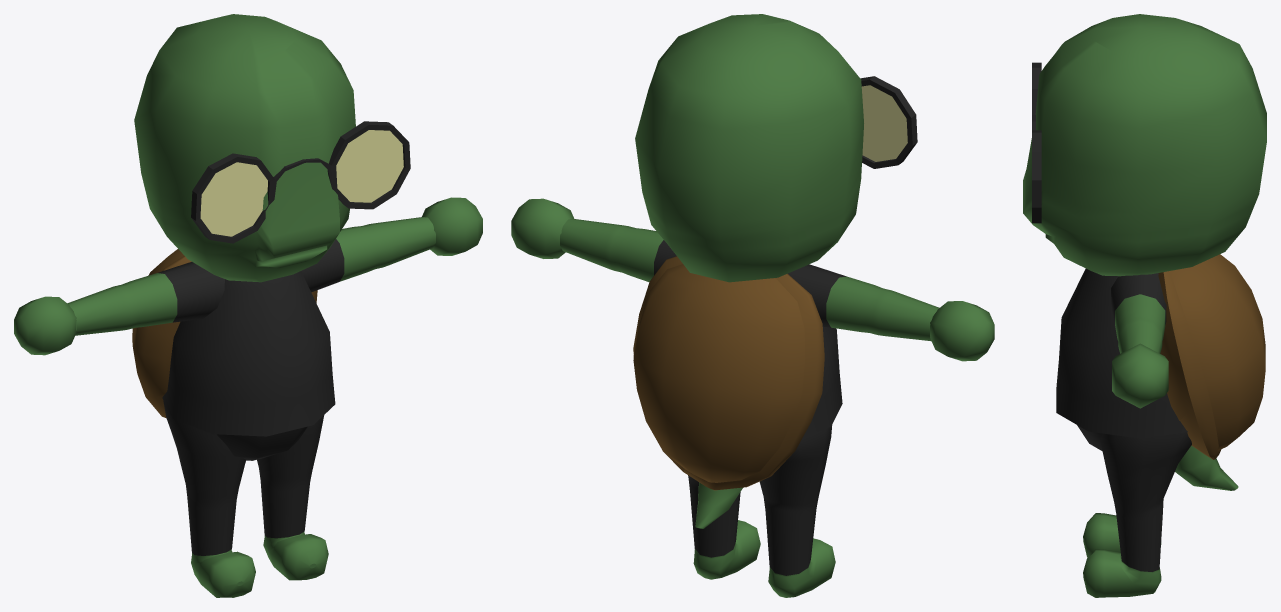
Rendered from Kirk.fbx.
3 renders of one model, left to right at view 1: azimuth 30°, elevation 25°; view 2: azimuth 150°, elevation 25°; view 3: azimuth 270°, elevation 25°, orthographic. The views are drawn at different scales.
Visible parts, largest first — view 1: body_geo, Glasses; view 2: body_geo, Glasses; view 3: body_geo, Glasses.
Part boxes in pixels (x1,y1,x2,y2): body_geo: [14, 14, 482, 597]; Glasses: [191, 121, 410, 243]; body_geo: [511, 14, 994, 597]; Glasses: [860, 76, 917, 168]; body_geo: [1023, 14, 1266, 597]; Glasses: [1032, 62, 1041, 223].
Bounding box in the file's own units: 7.05 × 7.88 × 3.19.
